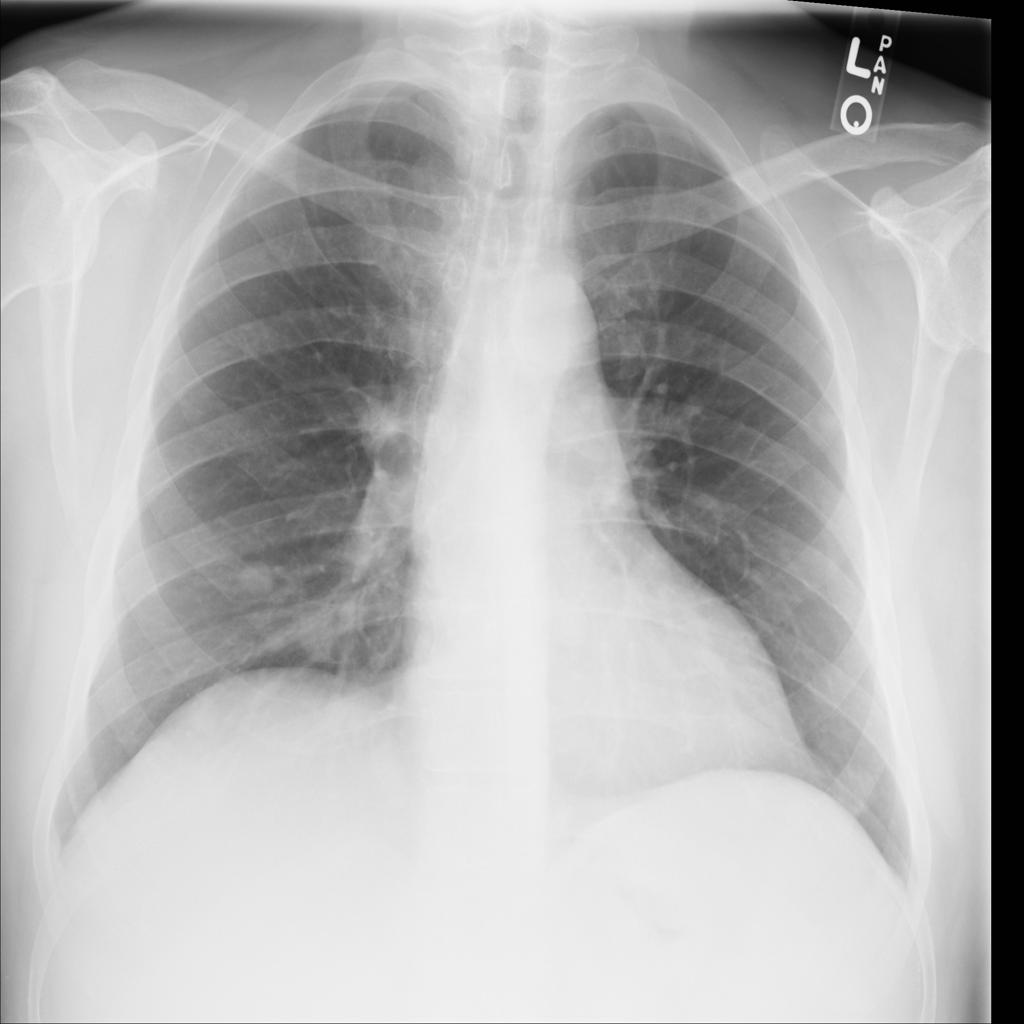nodule: (220, 545, 294, 612), (803, 395, 851, 448)
